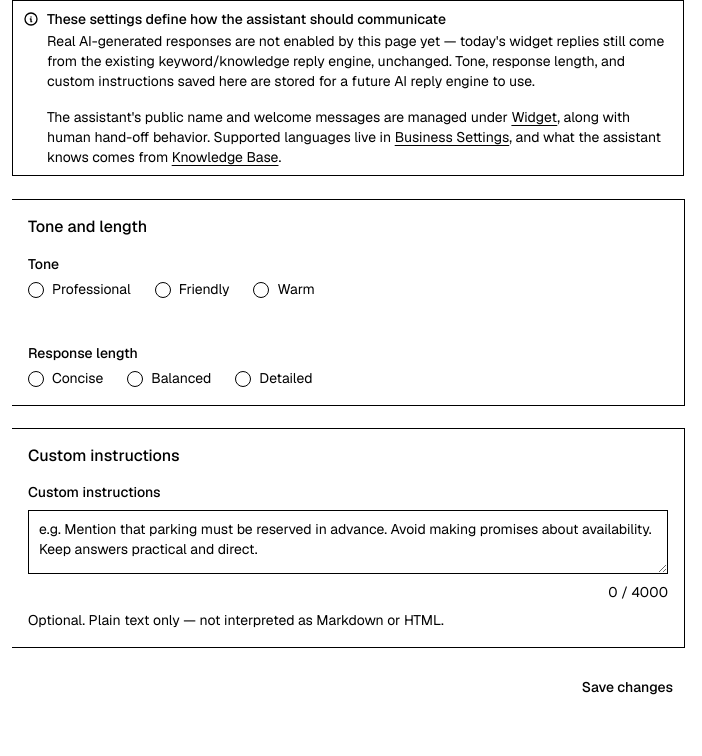
AgentSettingsForm — saving settings › shows a friendly error and keeps the typed values when saving fails
Click the button "Save changes" at [627, 687], box [571, 671, 684, 703]
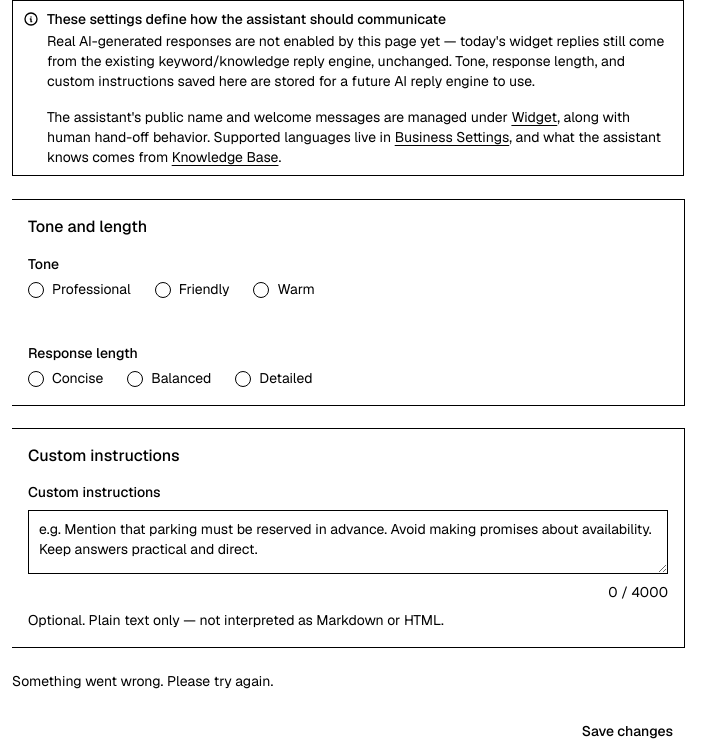
Check: the radio button named "Professional" next to "Professional" is checked, box [28, 282, 44, 298]
Check: the text "Something went wrong. Please try again." is shown, box [12, 672, 273, 690]
